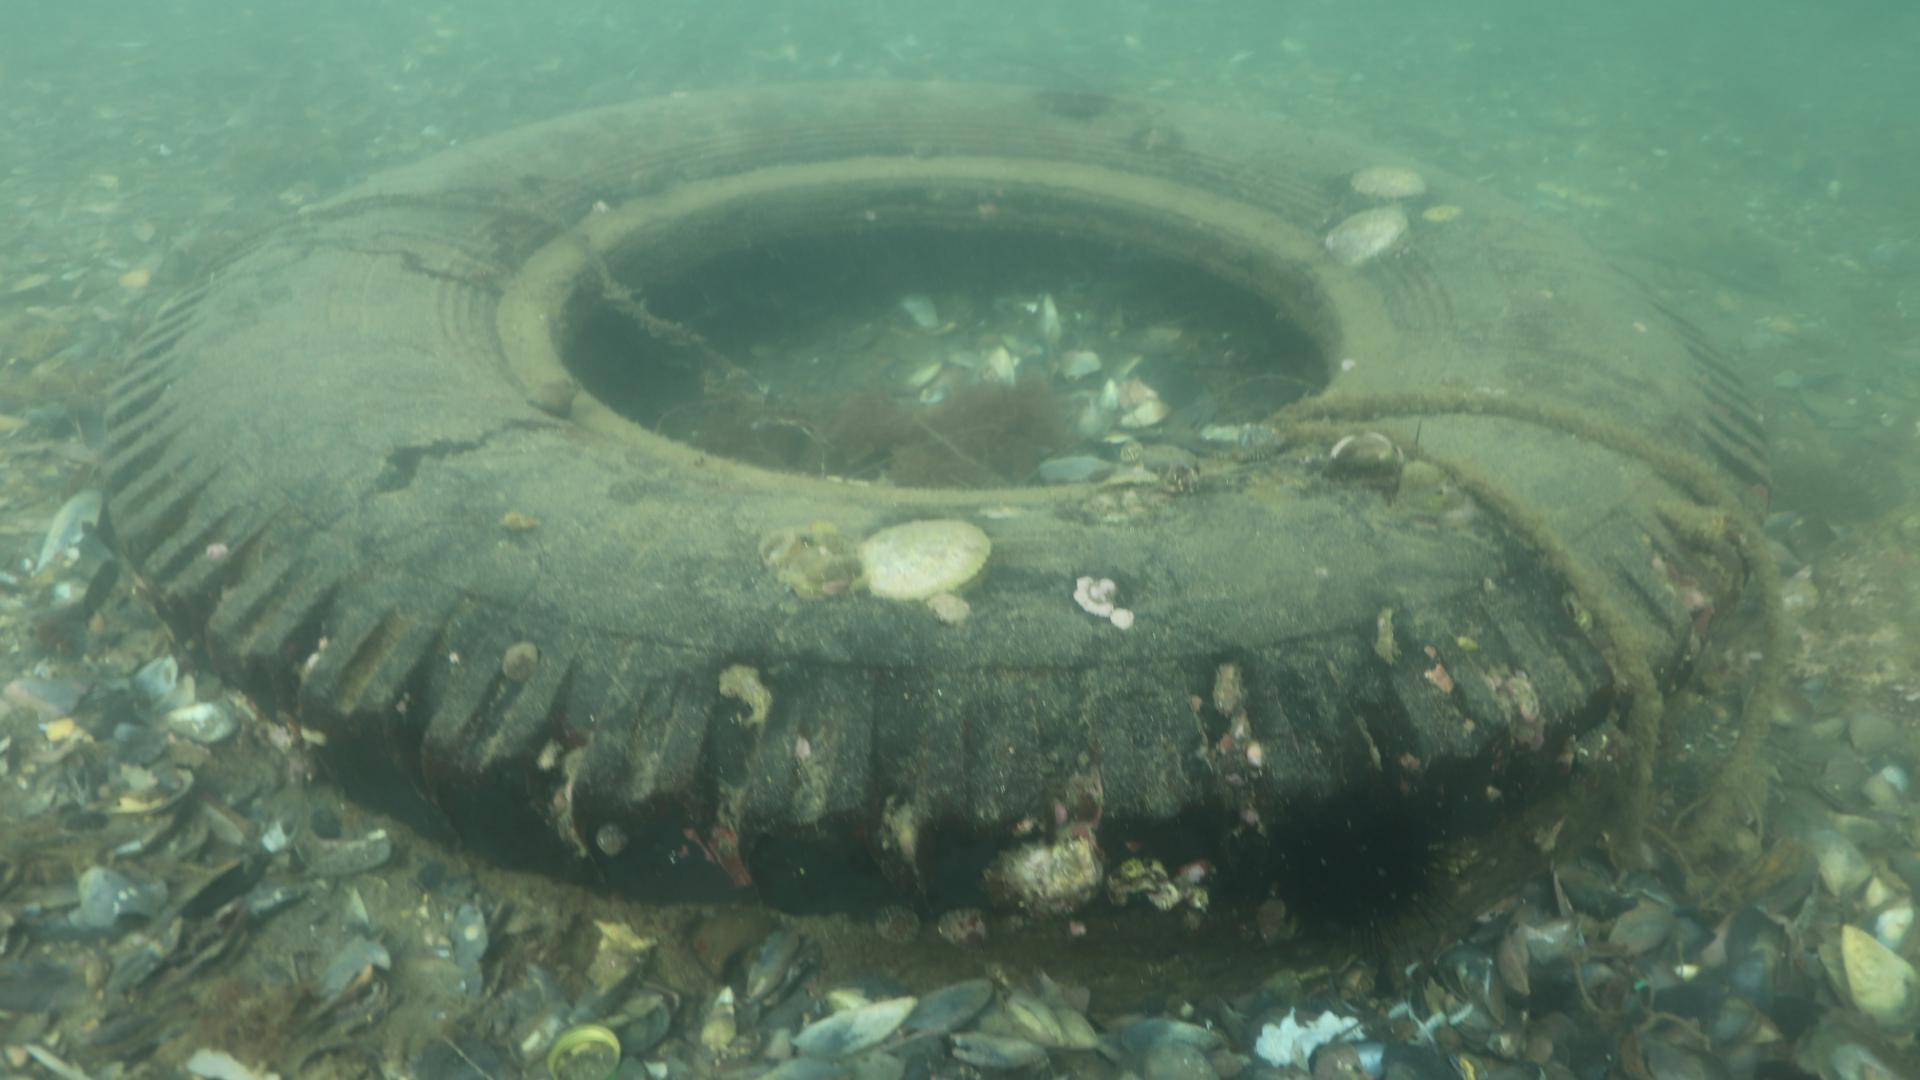bundle of ropes: (1255, 388, 1782, 866)
tire: (104, 78, 1772, 945)
